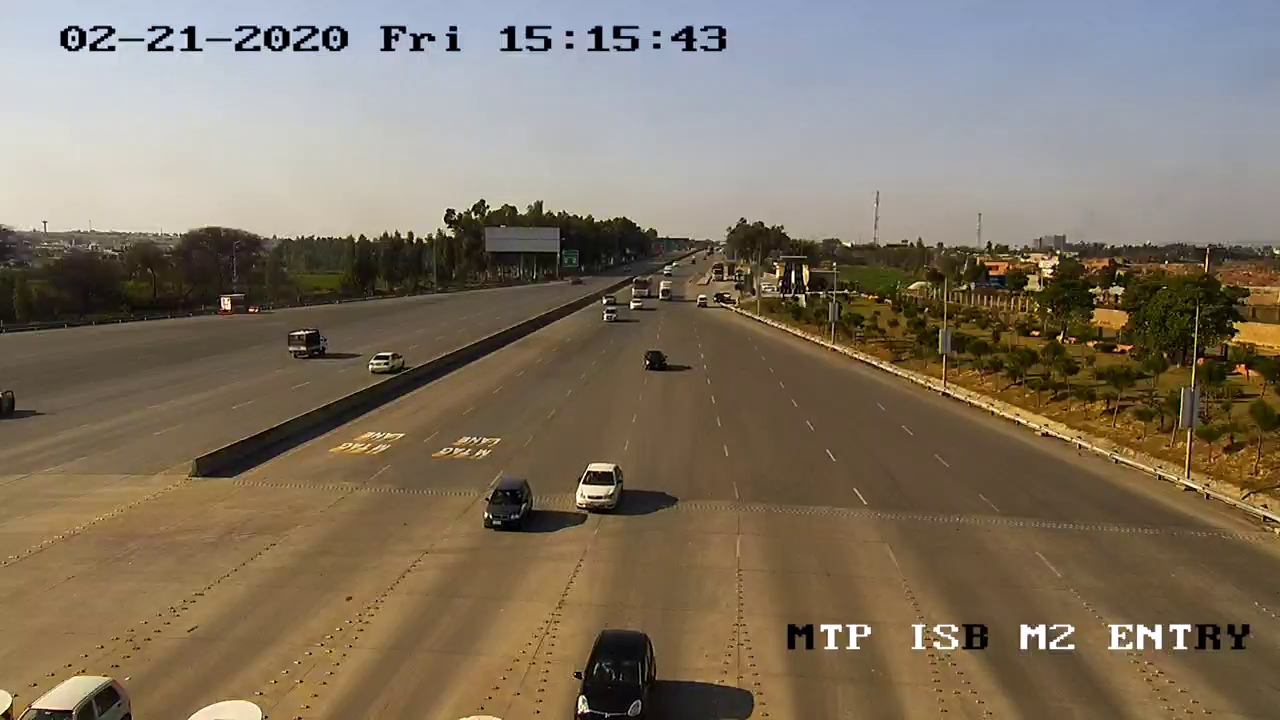f1: (569, 617, 665, 720), (475, 472, 539, 535), (570, 454, 631, 519)
